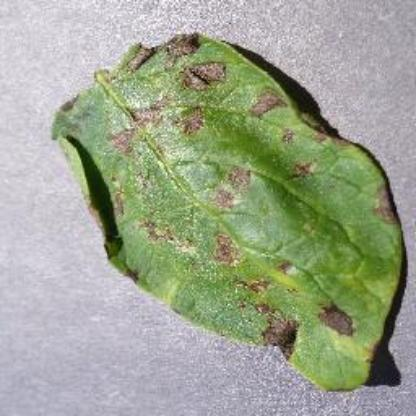Early-Blight: (43, 29, 403, 393)
